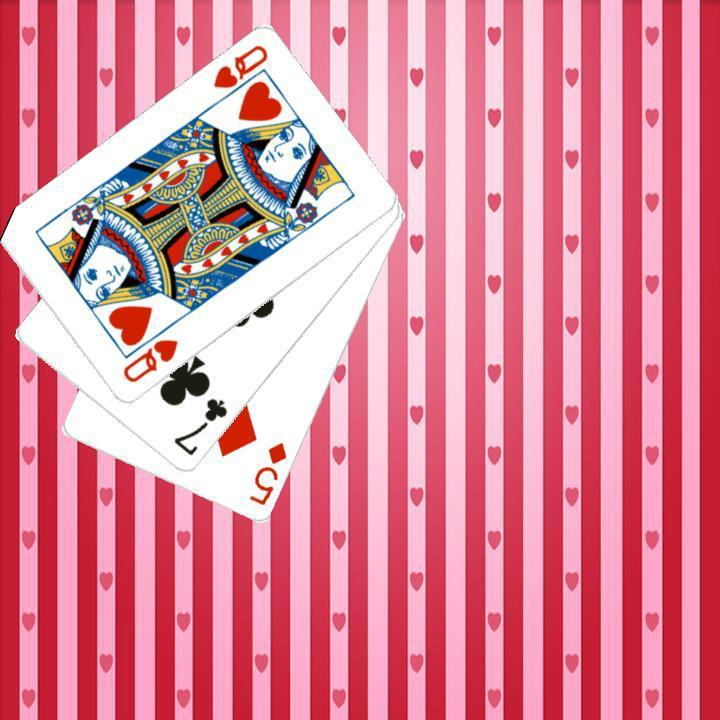5: (245, 438, 289, 508)
7: (169, 394, 230, 459)
Q: (208, 41, 270, 108), (118, 335, 181, 386)
